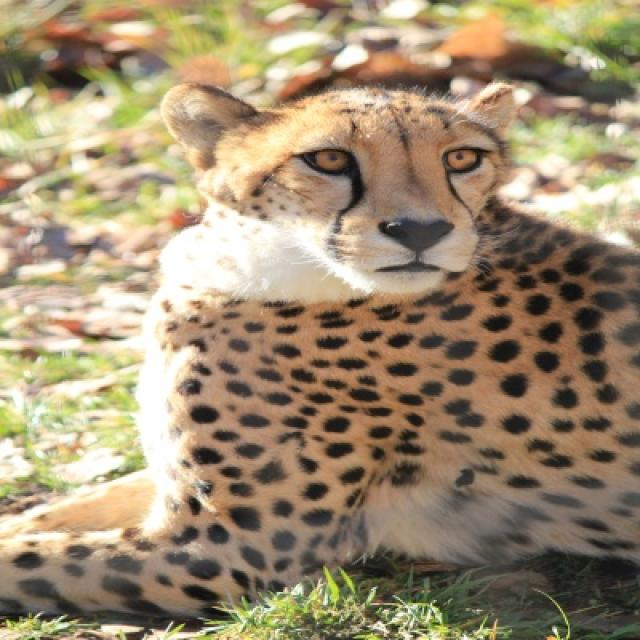Cheetah: (0, 79, 635, 619)
